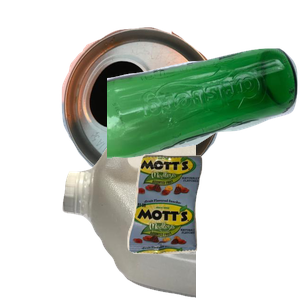glass: (107, 46, 300, 197)
metal: (59, 10, 273, 189)
plastic: (60, 120, 300, 300)
trash: (125, 152, 300, 300)
